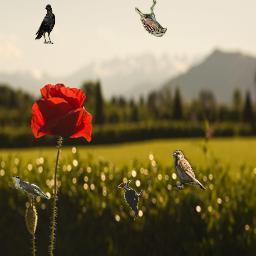Crow: (35, 4, 55, 44)
Cuckoo: (10, 176, 50, 198)
Sparrow: (173, 150, 206, 190), (135, 0, 167, 37)
Woodpecker: (118, 180, 144, 220)
